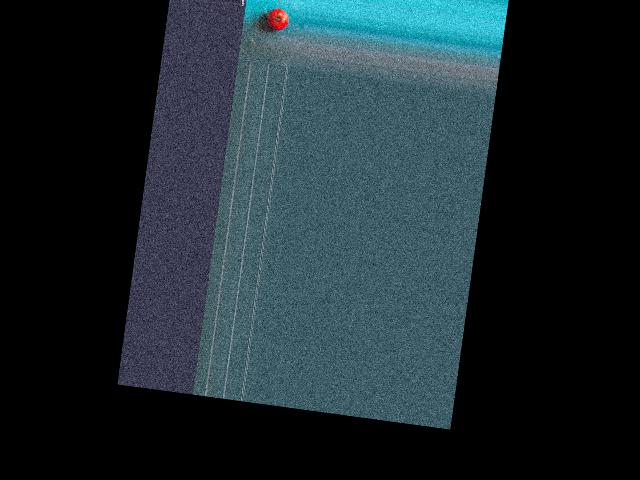tomato: (265, 7, 289, 31)
